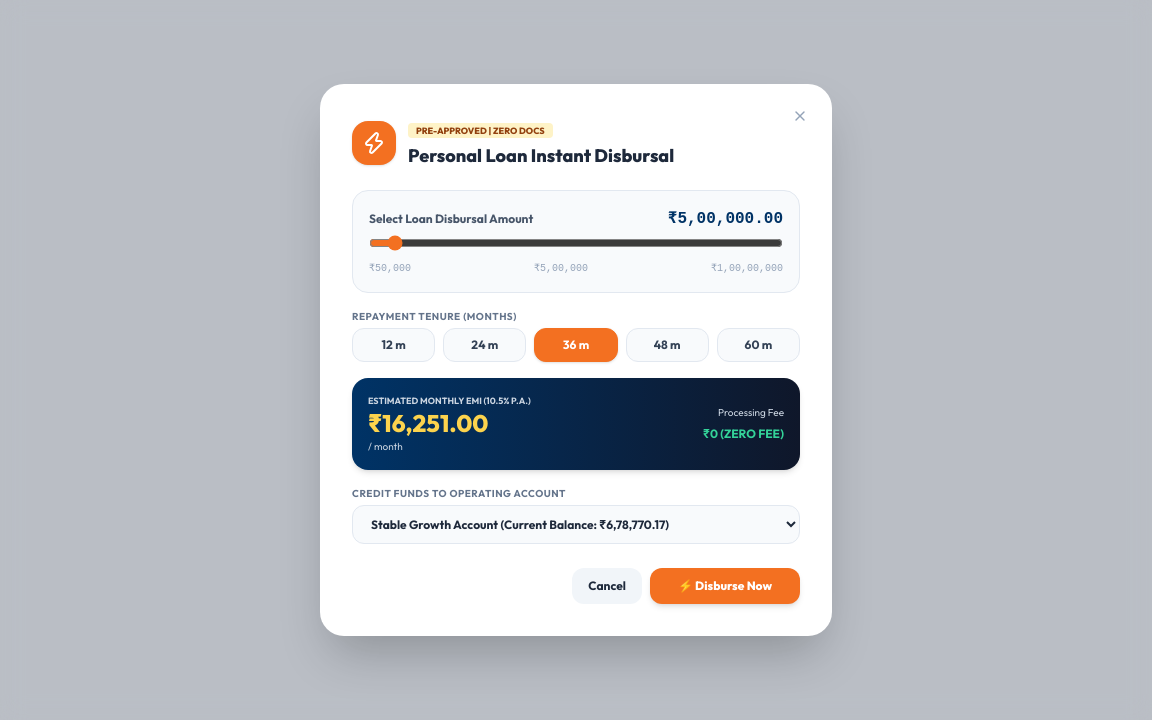
Scenario: Offers For You Section Integration Tests › should disburse Personal Loan and update state in PersonalLoanOfferModal
Expected: the heading "Personal Loan Instant Disbursal" is shown, [408, 142, 674, 170]
Expected: the text "Estimated Monthly EMI (10.5% p.a.)" is shown, [368, 394, 531, 407]
Click the button "⚡ Disburse Now": (725, 586) [650, 568, 800, 604]
Wait 2000 ms
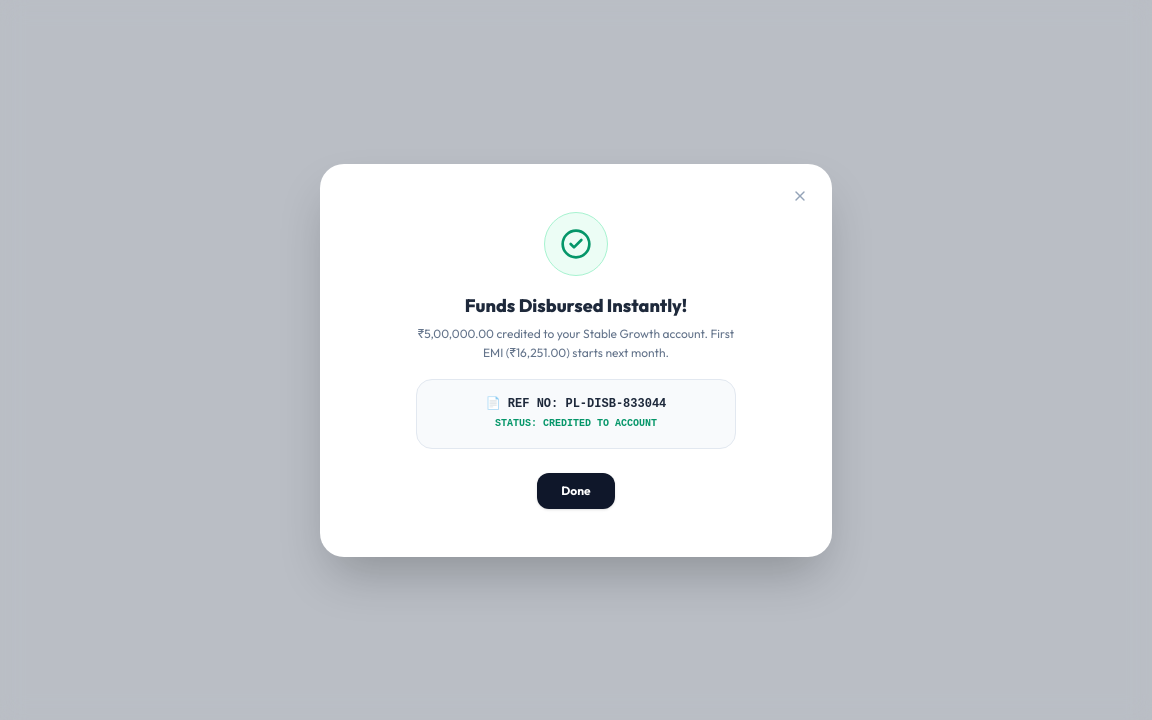
Expected: the heading "Funds Disbursed Instantly!" is shown, [465, 294, 687, 316]
